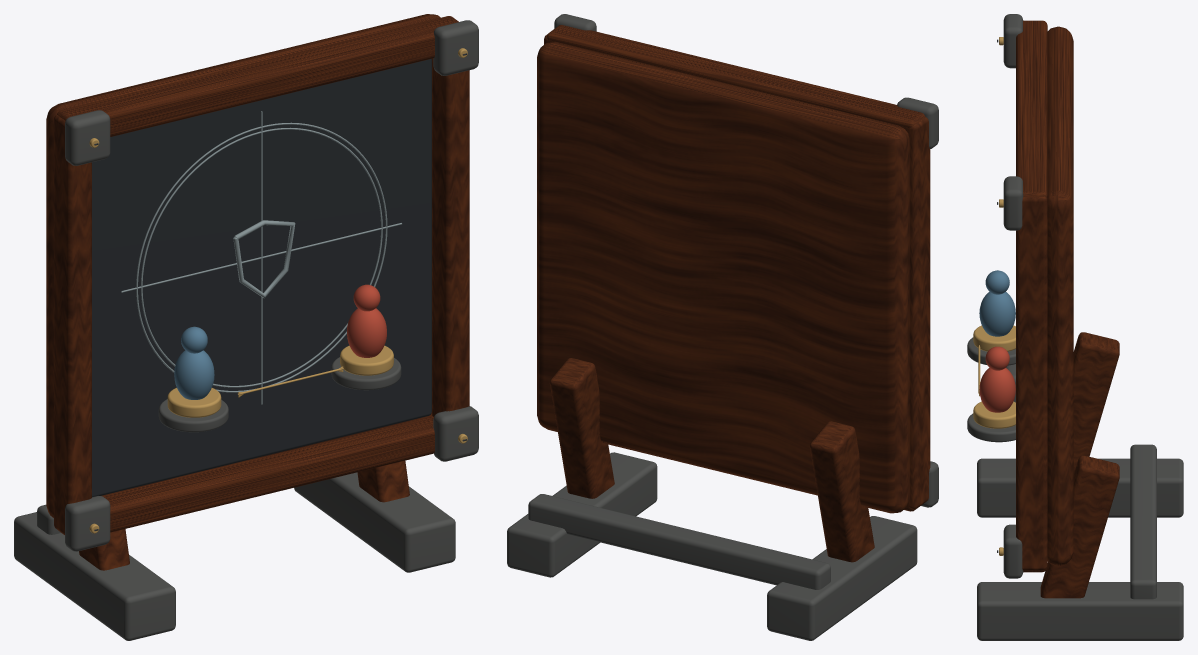
File: aventura_quadro_estrategia.glb
3 renders of one model, left to right at view 1: azimuth 30°, elevation 25°; view 2: azimuth 150°, elevation 25°; view 3: azimuth 270°, elevation 25°, orthographic. The views are drawn at different scales.
Visible parts, largest first — view 1: quadro_estrategia; view 2: quadro_estrategia; view 3: quadro_estrategia.
Boxes of the visible parts, x1,y1,x2,y2 form: quadro_estrategia: (14, 14, 478, 640); quadro_estrategia: (507, 14, 938, 640); quadro_estrategia: (967, 14, 1183, 640).
Bounding box in the file's own units: 0.35 × 0.4245 × 0.178.
Materials: 7 (1 with a texture image).
